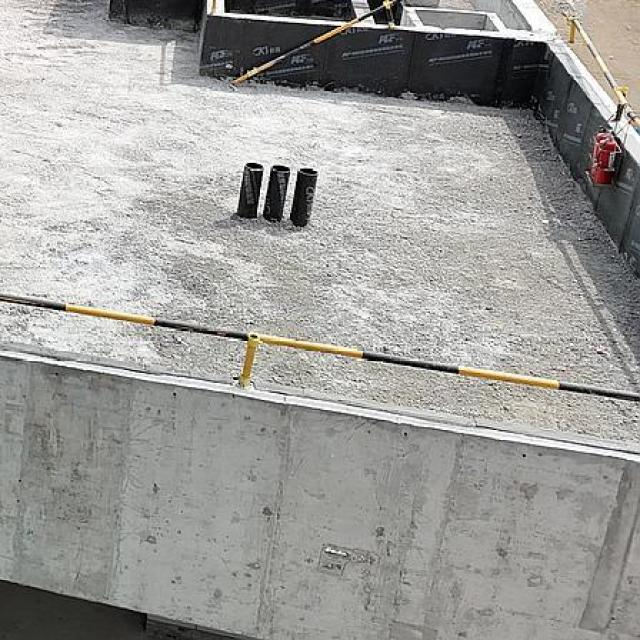edge_guardrail: (0, 290, 640, 404), (228, 0, 402, 96), (560, 9, 640, 145)
